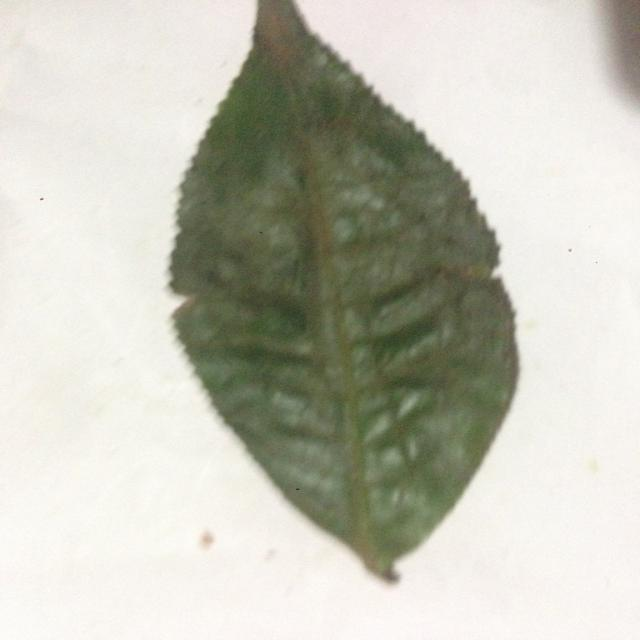Red Leaf Spot: (110, 0, 523, 594)
